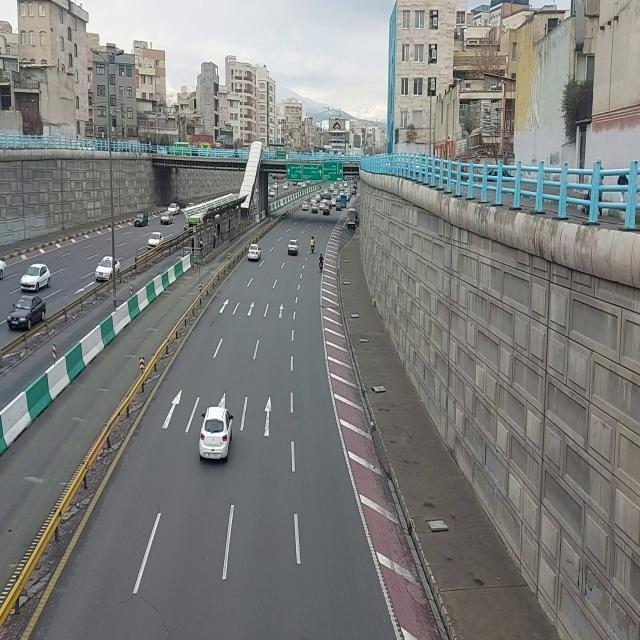Car: (200, 405, 234, 463), (7, 294, 47, 332), (20, 263, 50, 293), (95, 257, 120, 283), (248, 243, 262, 263), (147, 232, 164, 248), (287, 240, 299, 257), (160, 211, 173, 226), (167, 202, 179, 216), (311, 204, 319, 215), (323, 205, 331, 215), (302, 201, 309, 212), (336, 202, 342, 212), (311, 197, 317, 205), (320, 201, 326, 209)
Motorcycle: (318, 252, 324, 274), (310, 235, 316, 254), (355, 189, 357, 197), (348, 195, 350, 203)
Pickup: (134, 210, 150, 229), (341, 194, 347, 208)
